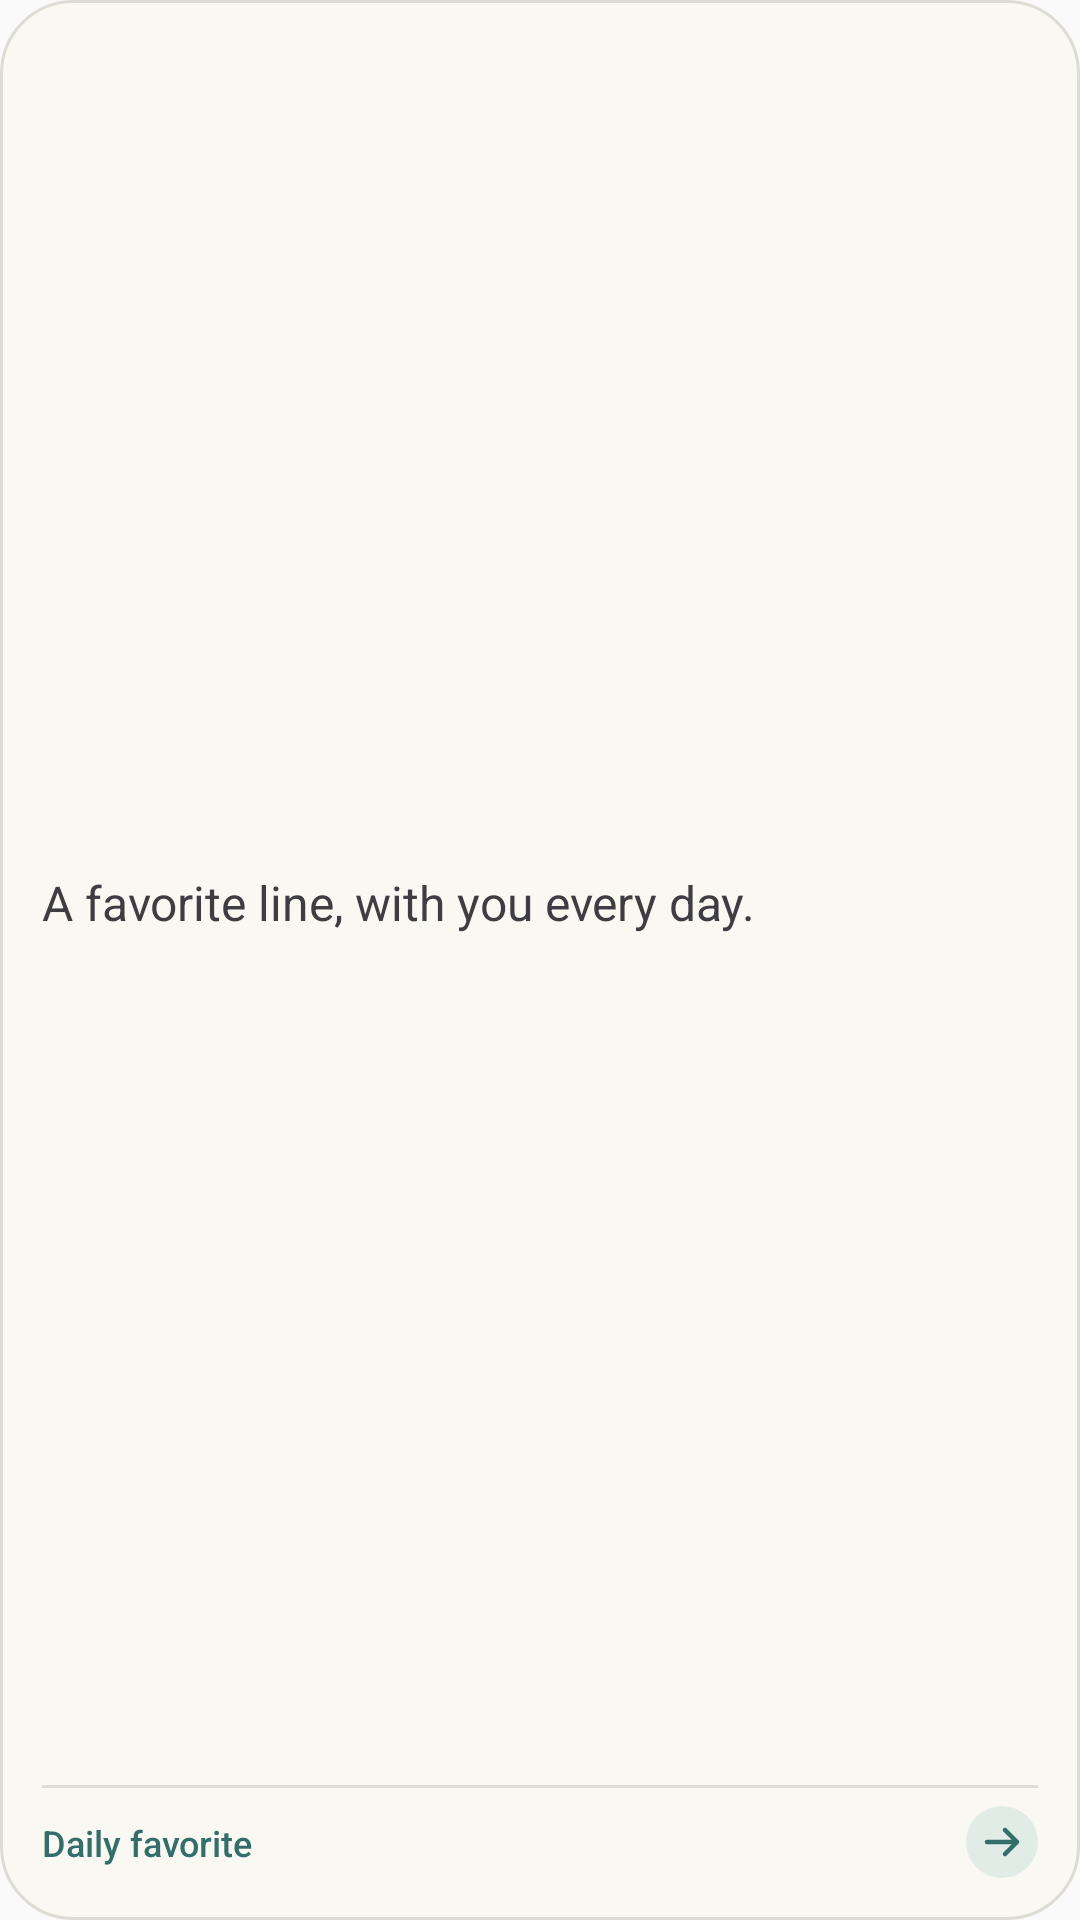

Named icons in this screenshot (1080×1920) and their bounding boxes, (x1, y1, x2, y2):
Next favorite: (966, 1806, 1038, 1878)
